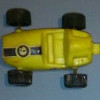carro: (4, 12, 100, 84)
